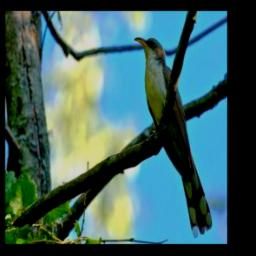Cuckoo: (135, 36, 213, 236)
